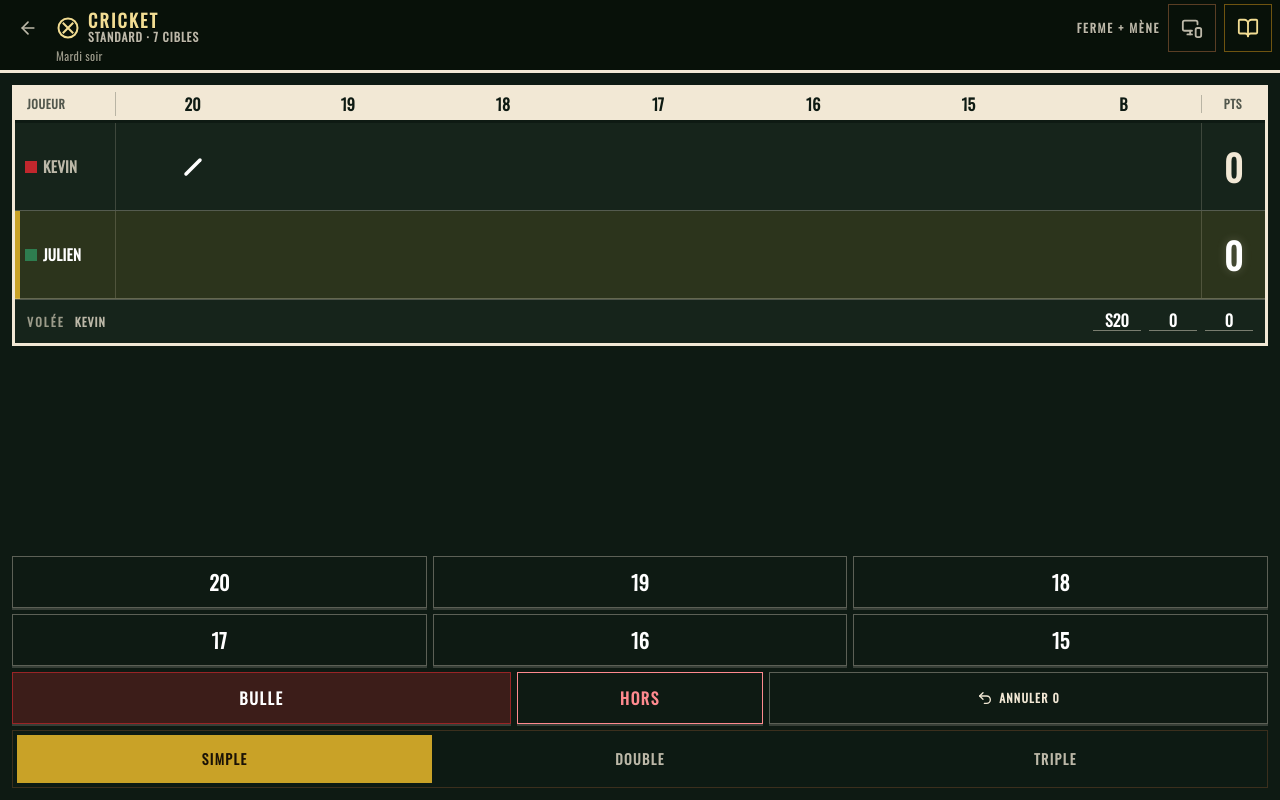
Scenario: Cricket — la volée sur la dernière ligne › dès la première fléchette du suivant : sa volée à lui
The width and height of the screenshot is (1280, 800).
Expected: the element named "Volée de Kevin" is shown, top-left (1093, 312), bottom-right (1253, 331)
Click the button "19": [640, 582] box top-left (433, 556), bottom-right (847, 608)
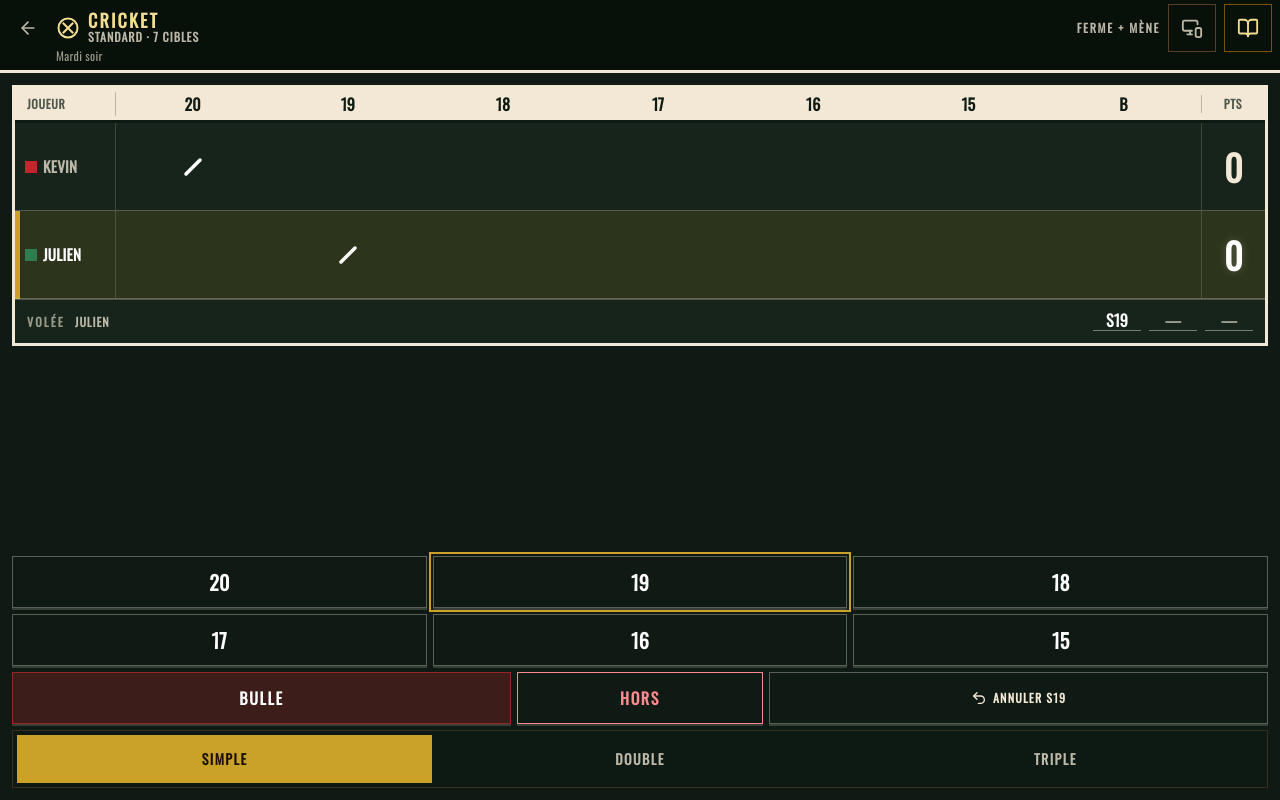
Expected: the element named "Volée de Julien" reads "S19 — —", top-left (1093, 312), bottom-right (1253, 331)
